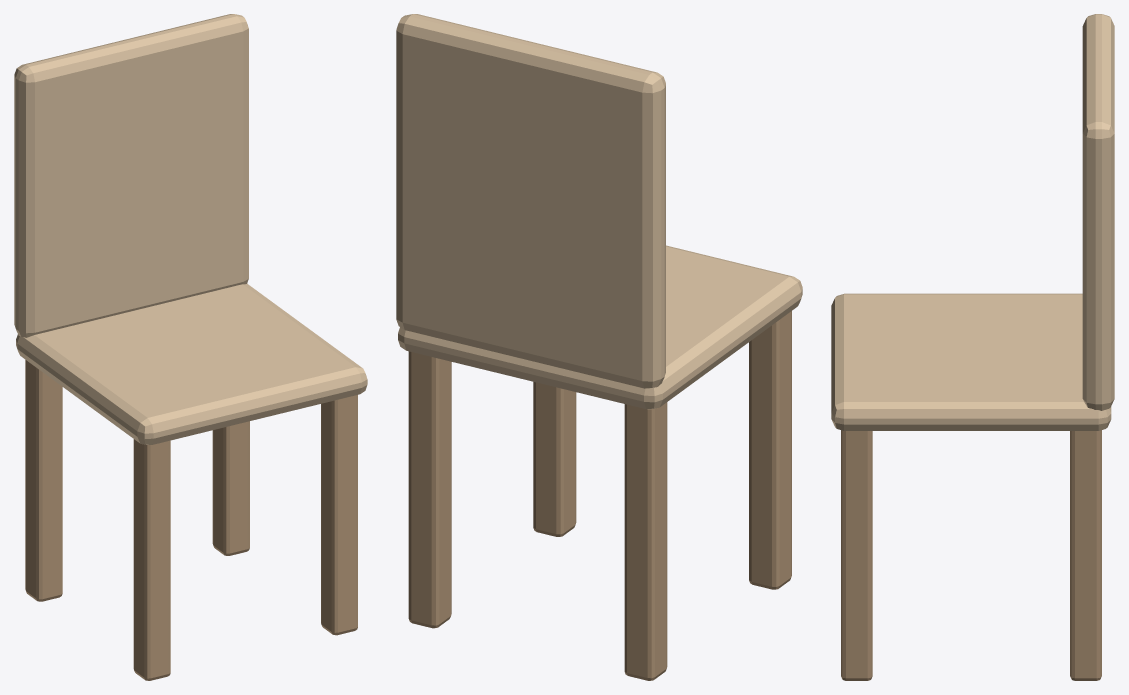
Rendered from th_stuhl.glb.
3 views of the same model, side by side, from view 1: azimuth 30°, elevation 25°; view 2: azimuth 150°, elevation 25°; view 3: azimuth 270°, elevation 25° (orthographic). The views are drawn at different scales.
Visible parts, largest first — view 1: stuhl; view 2: stuhl; view 3: stuhl.
Boxes of the visible parts, x1,y1,x2,y2 form: stuhl: (14, 14, 367, 680); stuhl: (396, 14, 802, 680); stuhl: (831, 14, 1114, 680).
Bounding box in the file's own units: 0.44 × 0.97 × 0.445.
